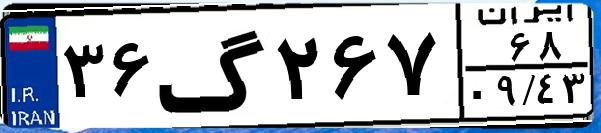0: (470, 70, 495, 125)
2: (270, 28, 330, 110)
3: (57, 26, 110, 100), (560, 70, 590, 125)
4: (535, 70, 560, 125)
6: (330, 28, 385, 110), (110, 28, 156, 98), (508, 27, 537, 80)
7: (385, 28, 445, 110)
8: (537, 27, 568, 80)
9: (495, 70, 520, 125)
گ: (156, 12, 270, 120)
